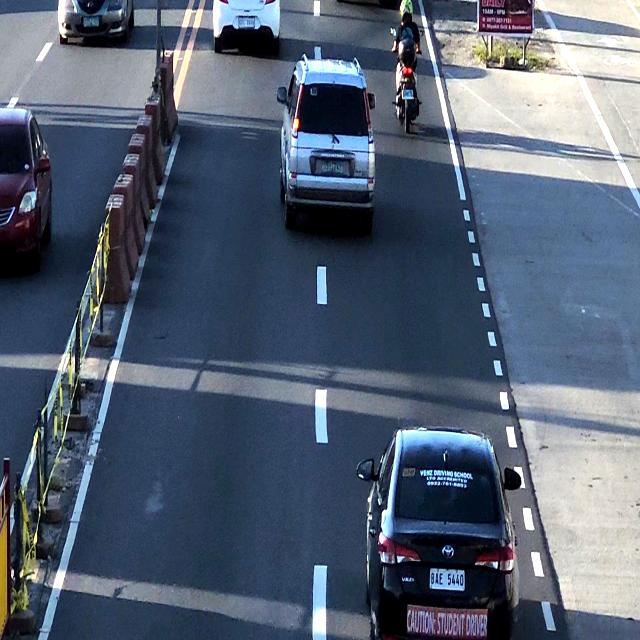Car: (367, 433, 517, 640), (278, 60, 368, 220), (212, 0, 280, 52)
License-Plate: (428, 566, 466, 595), (320, 158, 345, 179), (401, 89, 416, 100)
Motorcycle: (395, 0, 419, 141)
